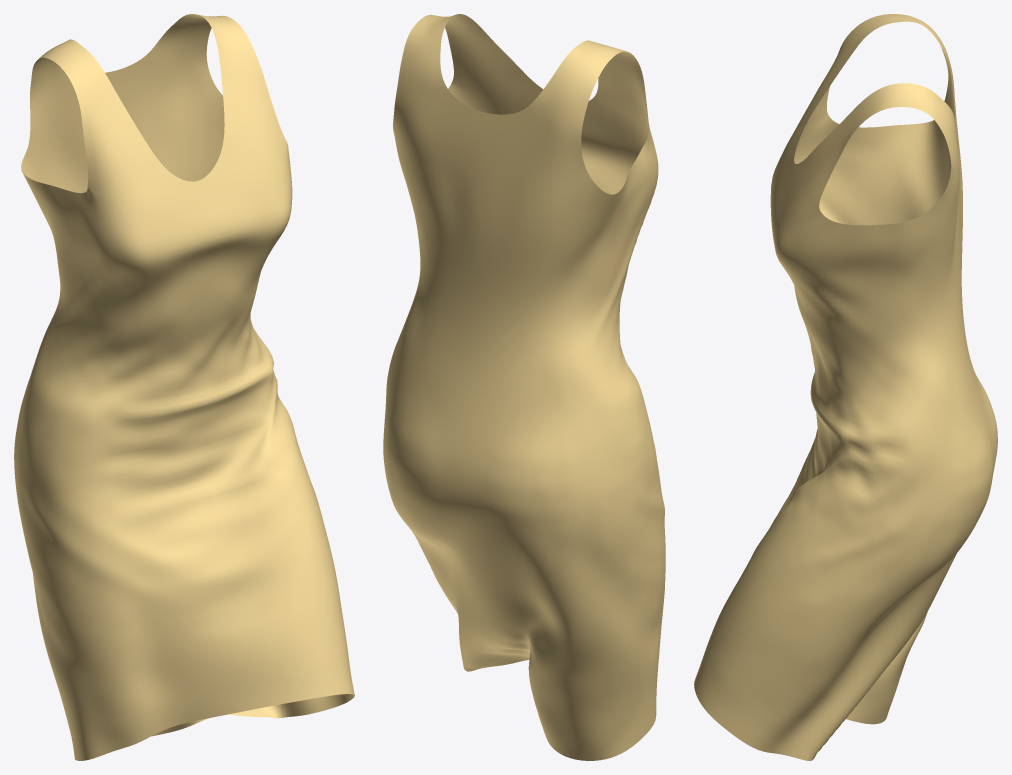
The model's file is dress.glb.
The picture shows the model from 3 angles, left to right: view 1: azimuth 30°, elevation 25°; view 2: azimuth 150°, elevation 25°; view 3: azimuth 270°, elevation 25°; orthographic projection. The views are drawn at different scales.
Visible parts, largest first — view 1: Dress; view 2: Dress; view 3: Dress.
Boxes of the visible parts, x1,y1,x2,y2 form: Dress: (14, 14, 354, 760); Dress: (383, 14, 665, 760); Dress: (694, 14, 997, 760).
Bounding box in the file's own units: 0.3667 × 0.9709 × 0.3889.
1 material, 1 textured.
